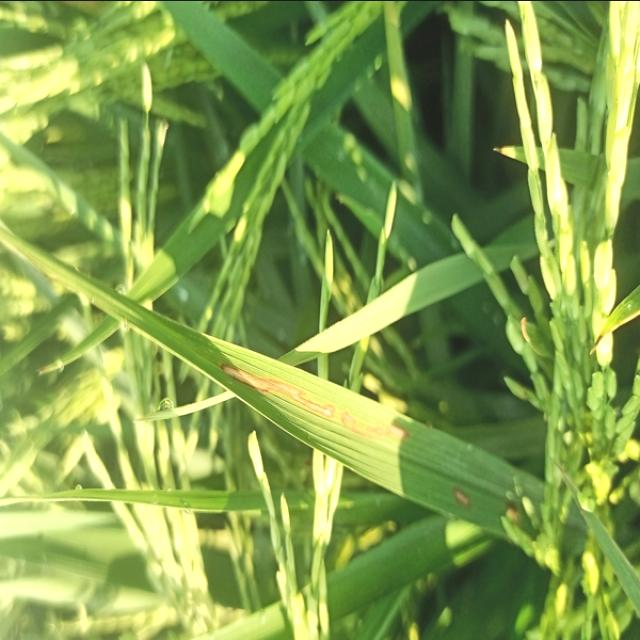Brown spot: (216, 358, 422, 442), (443, 470, 482, 512)
